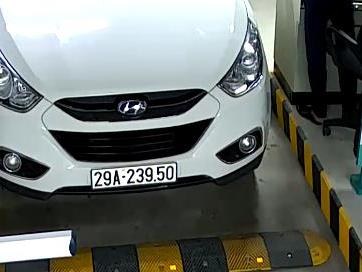number: (90, 163, 178, 189)
